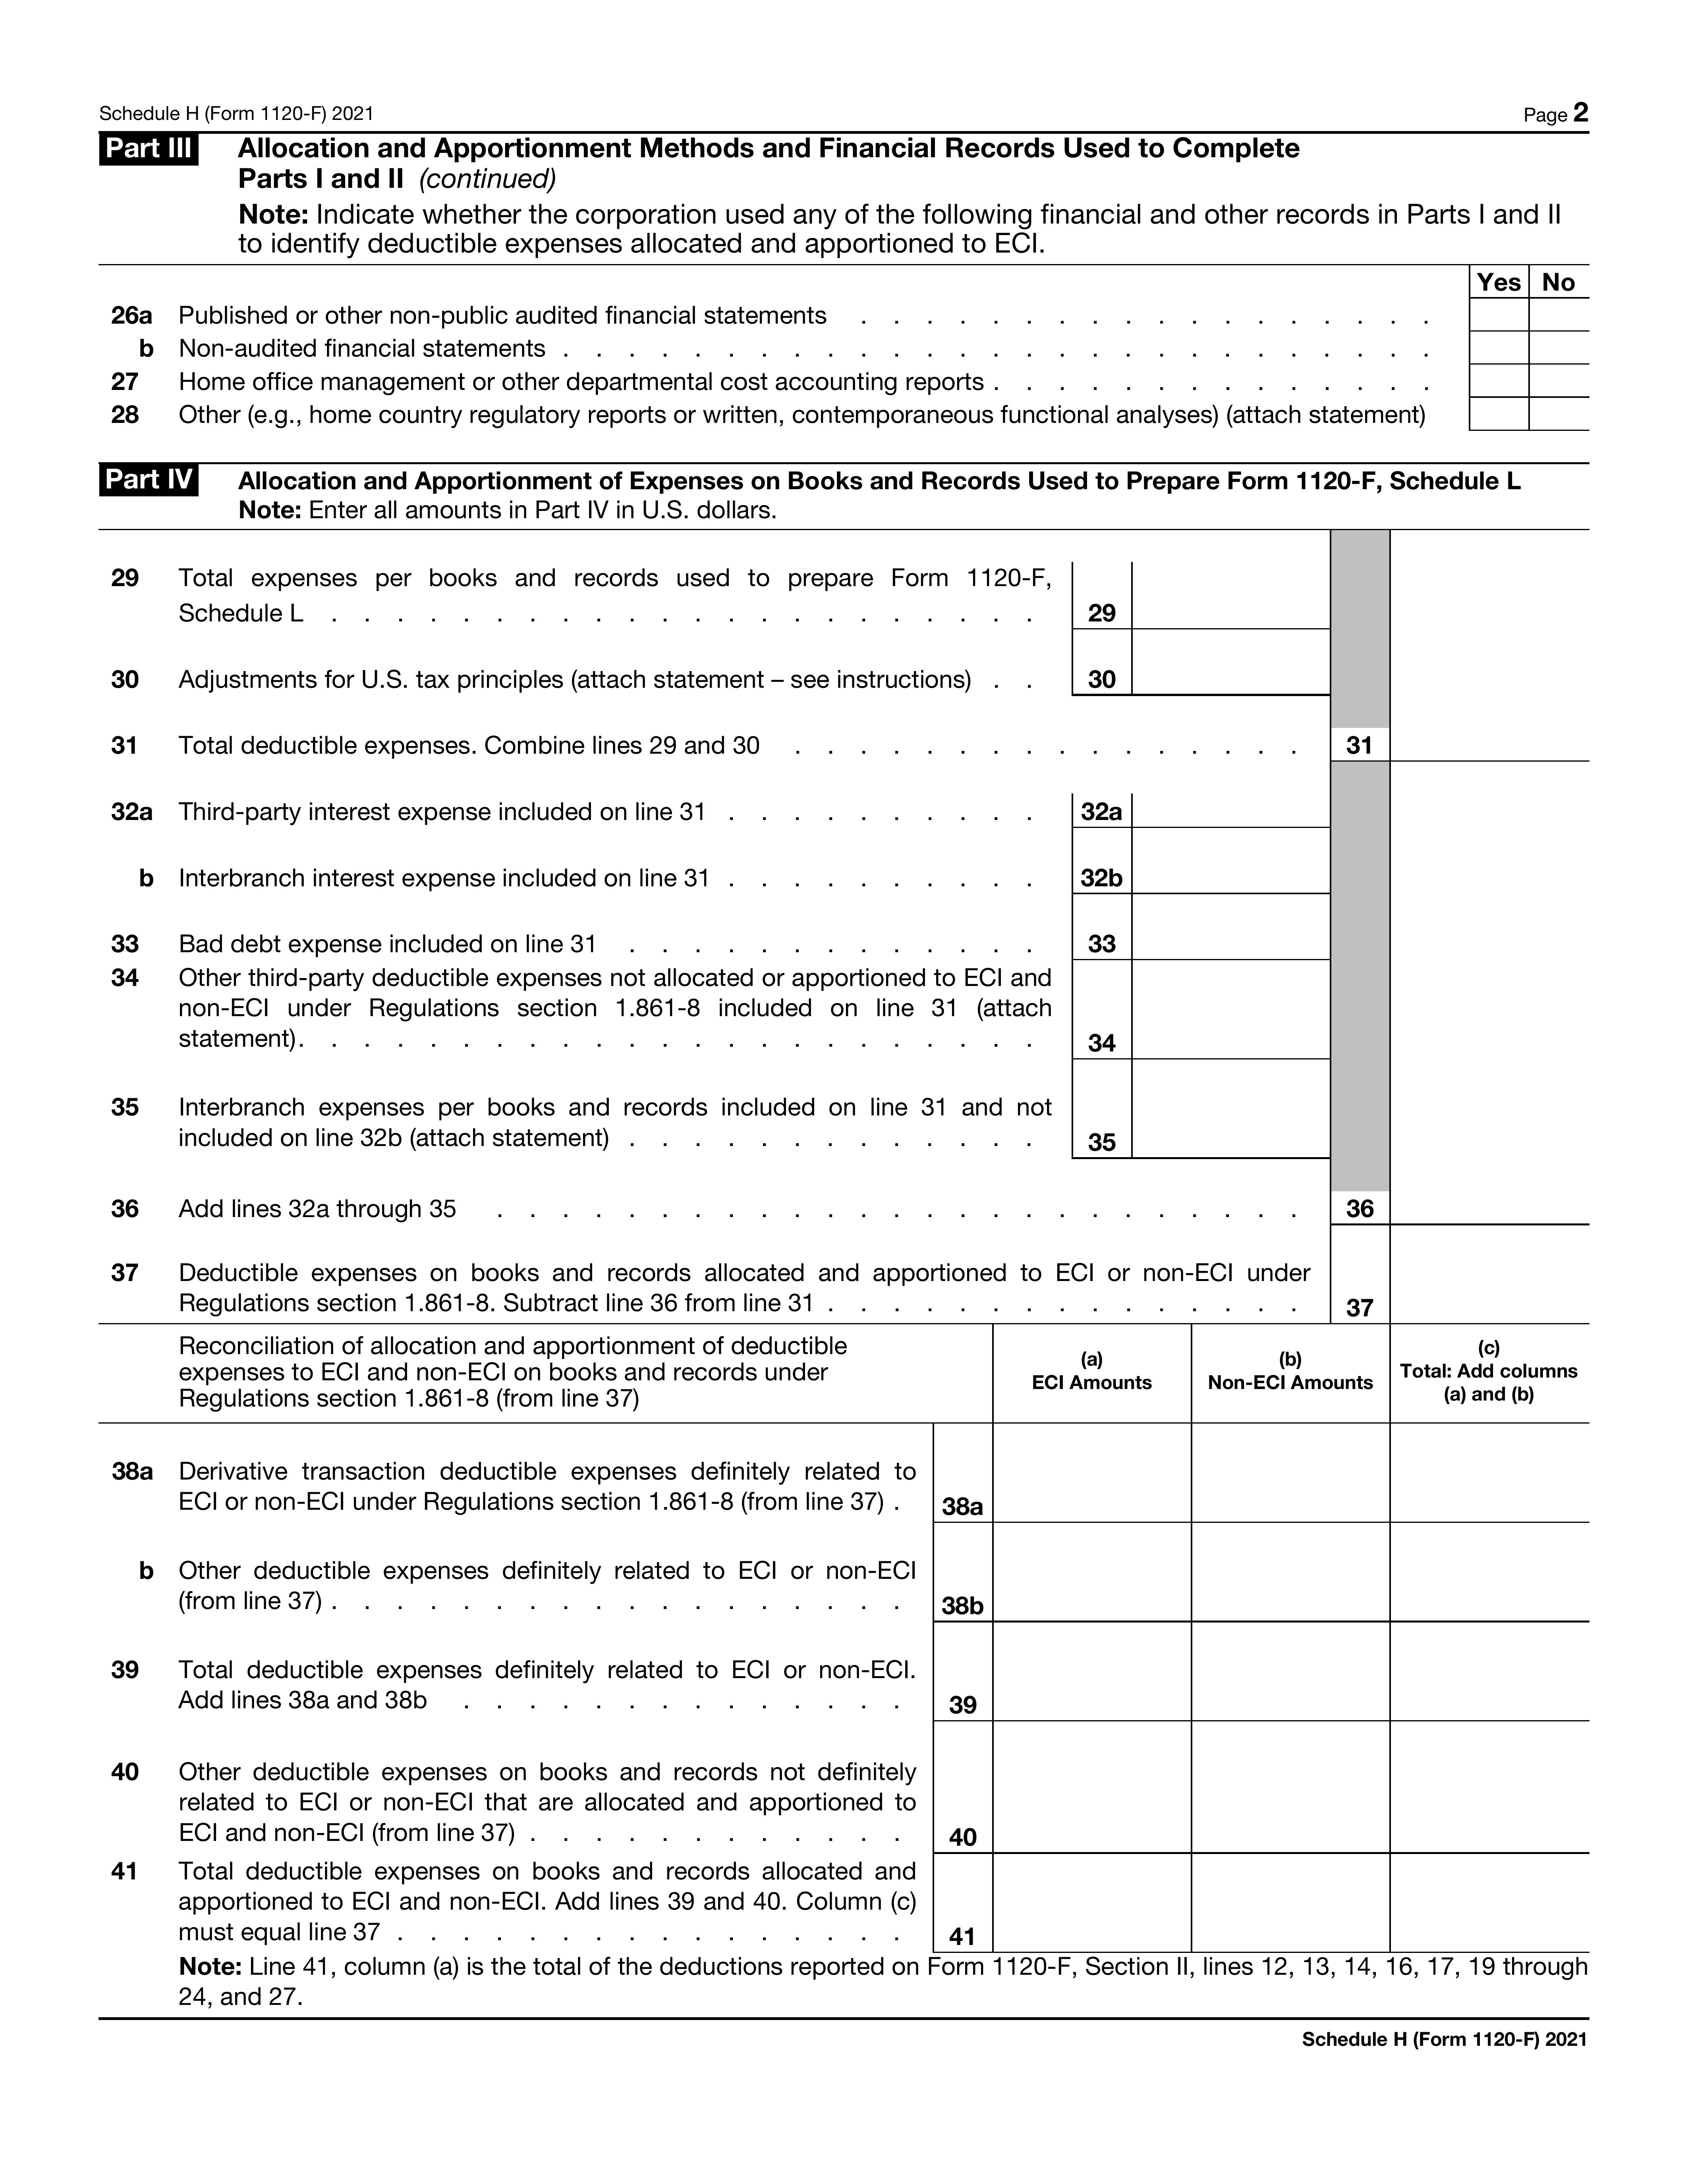table: (90, 530, 1610, 2012), (101, 262, 1605, 443)
